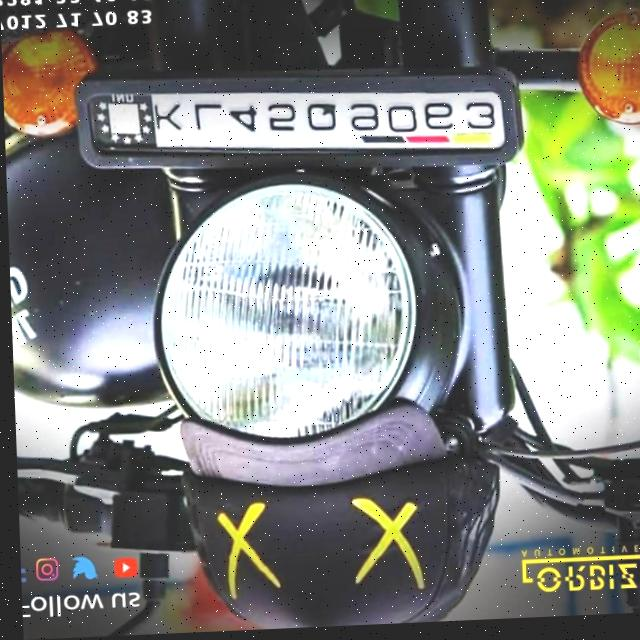plate: (70, 62, 525, 186)
